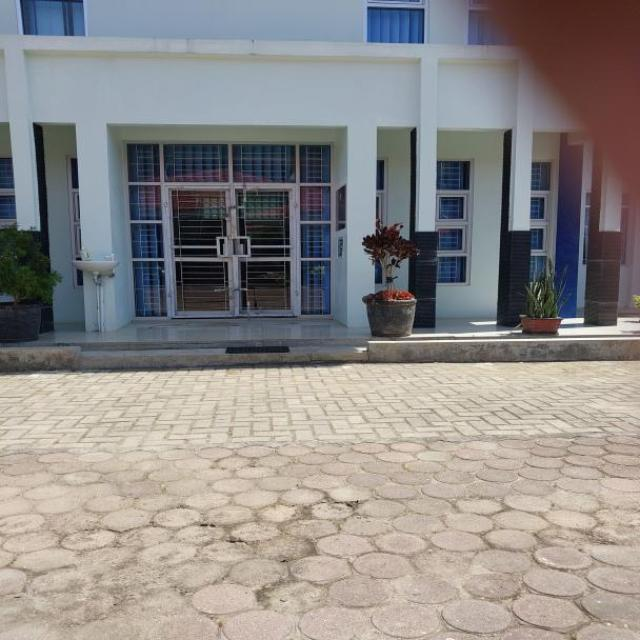gate ahead at: (173, 183, 299, 316)
plant ahead at: (353, 218, 431, 339), (518, 254, 574, 336)
wash basin ahead at: (67, 252, 117, 282)
